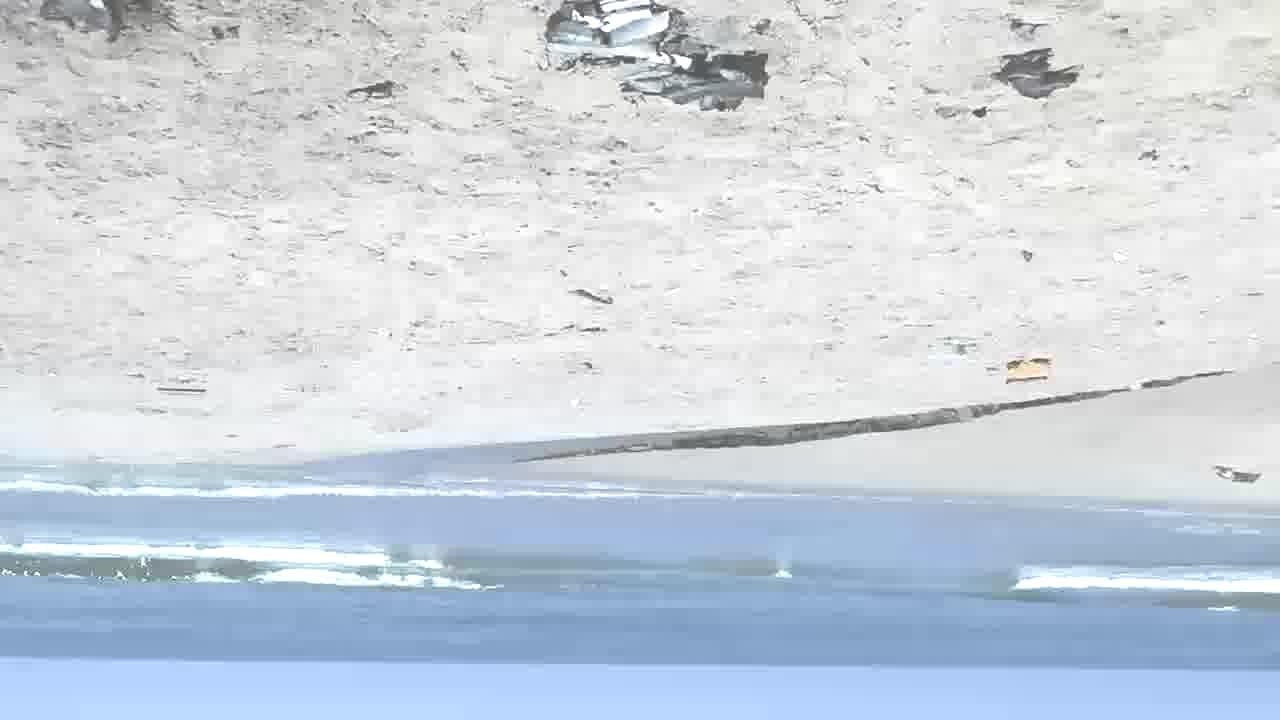obj: (533, 1, 774, 118), (988, 42, 1078, 100), (995, 358, 1050, 387), (1210, 463, 1261, 483), (341, 84, 399, 101), (567, 289, 613, 309), (149, 387, 208, 398)
sand/background: (1, 442, 1279, 719)
